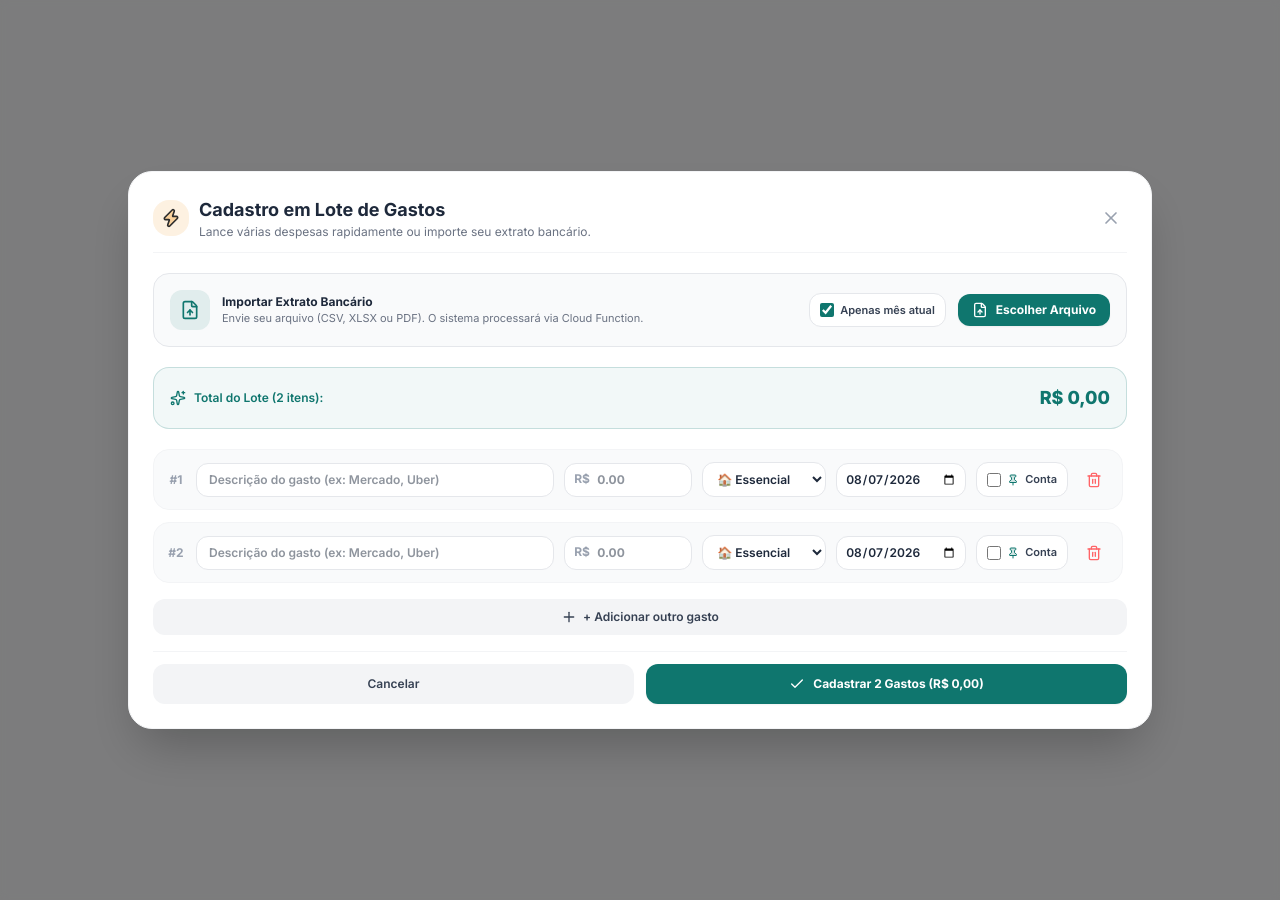
Test: BatchExpenseModal component › allows adding a new row and removing a row
Click the button "+ Adicionar outro gasto": coordinates (640, 617) [153,599,1127,635]
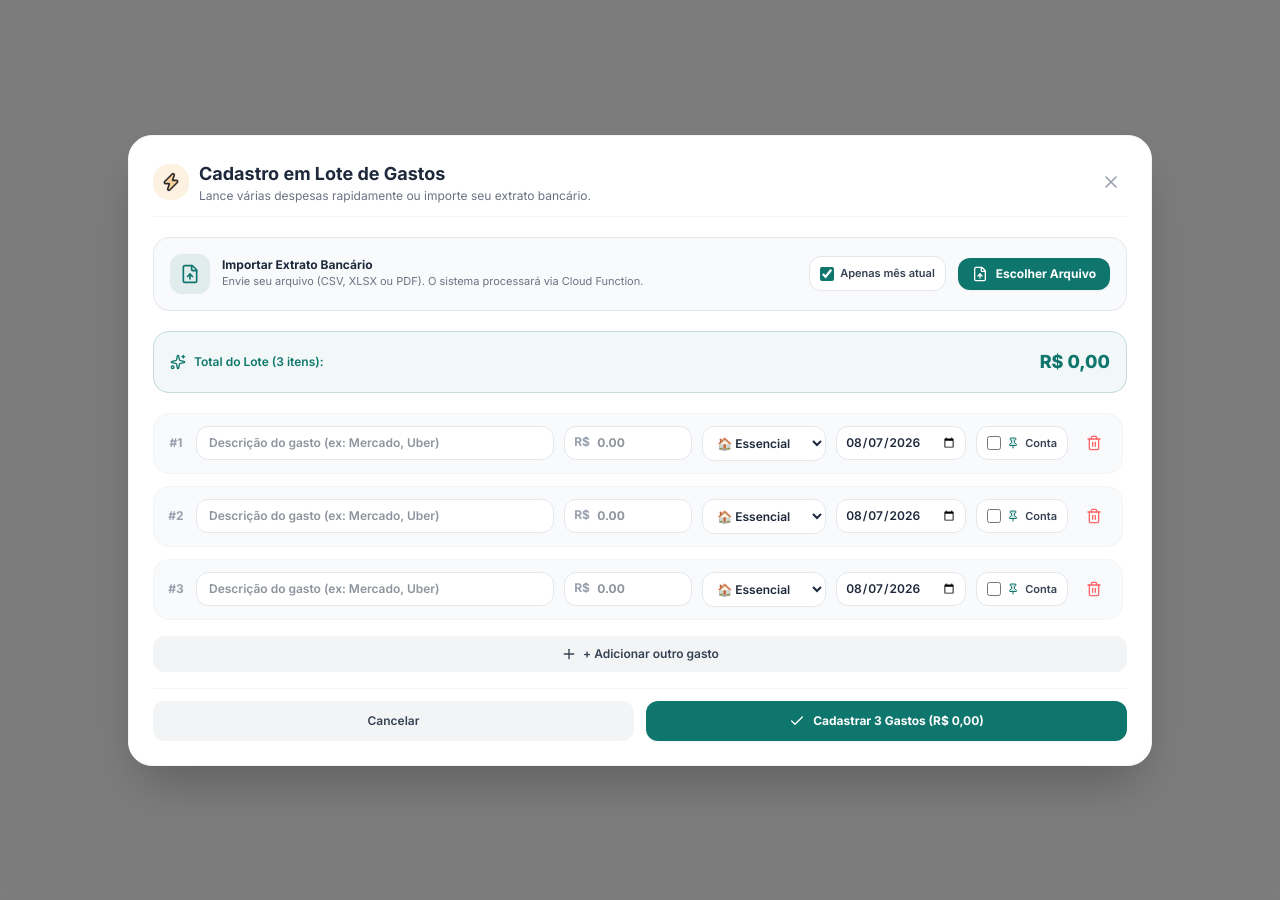
Expected: the number of fields with placeholder "Descrição do gasto (ex: Mercado, Uber)" is 3, [196,426,554,460]; [196,499,554,533]; [196,572,554,606]
Click the 3rd button named "Remover item": coordinates (1094, 589) [1078,573,1110,605]
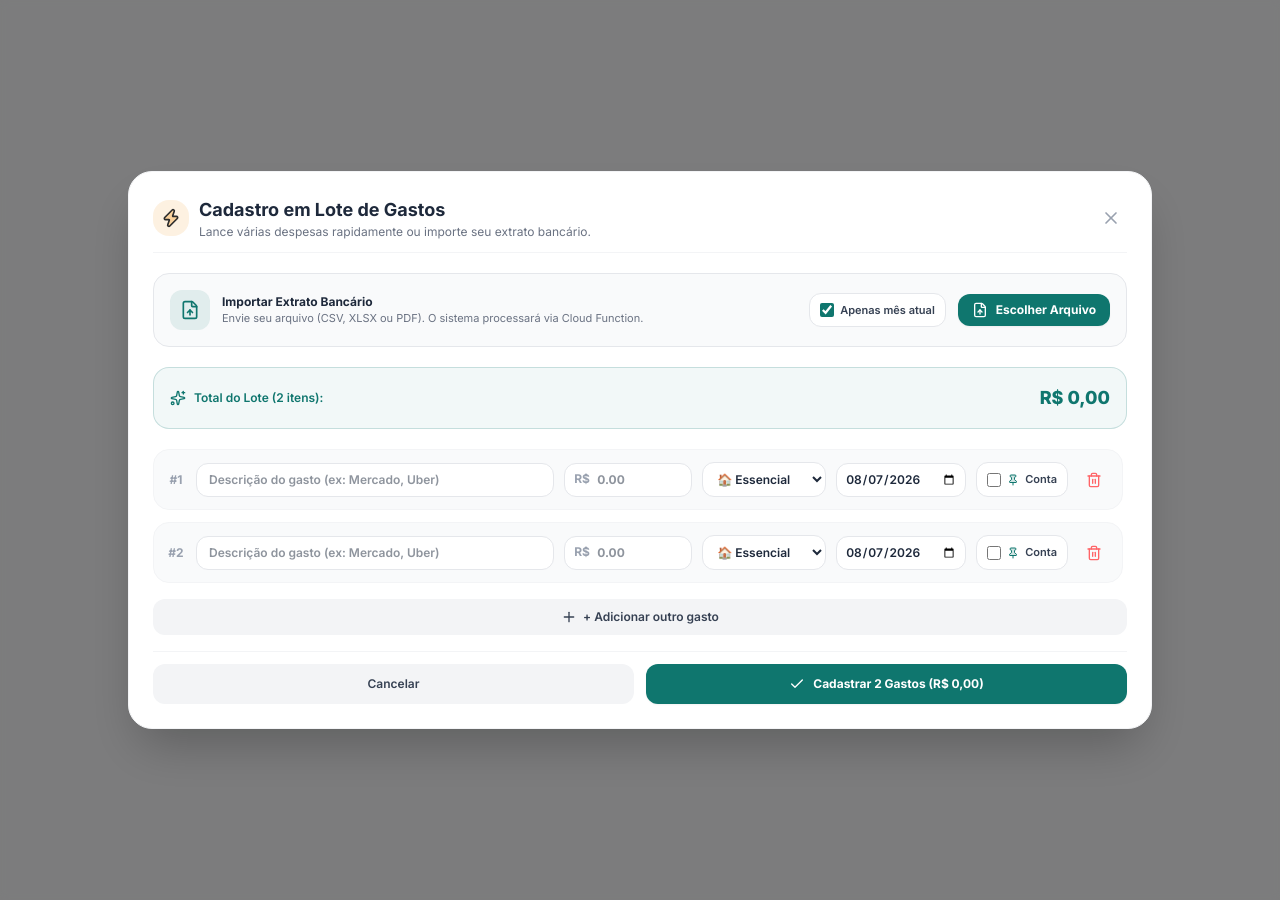
Expected: the number of fields with placeholder "Descrição do gasto (ex: Mercado, Uber)" is 2, [196,462,554,496]; [196,536,554,570]
